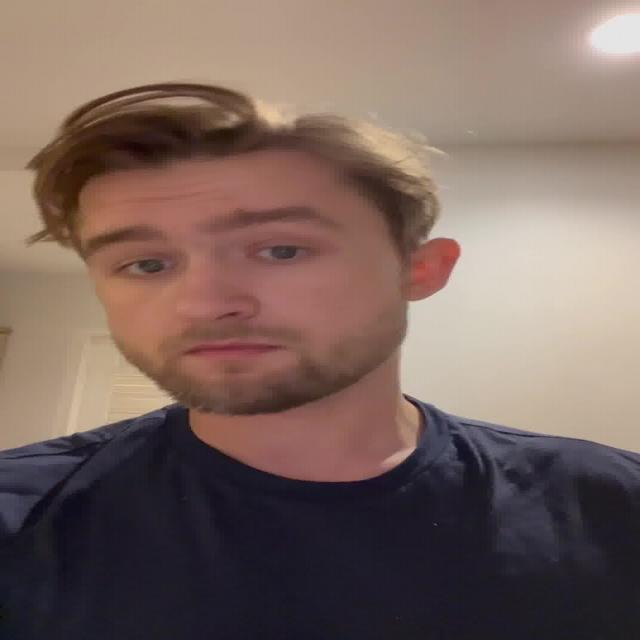earlobe: (404, 236, 461, 302)
